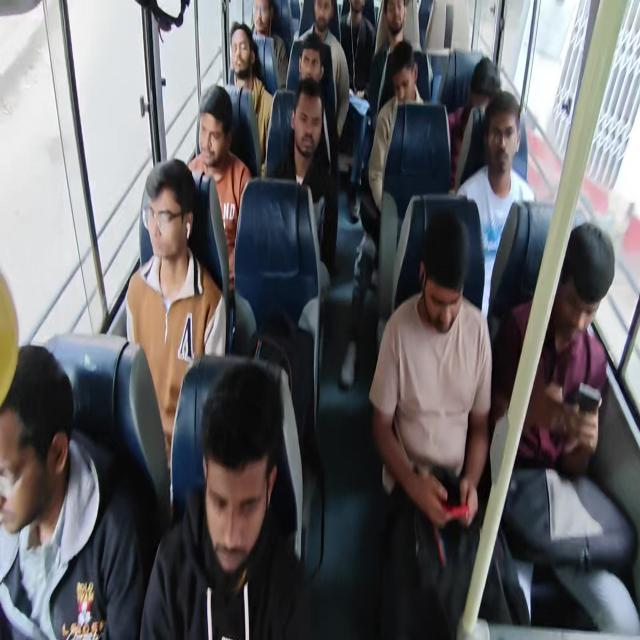person: (0, 353, 87, 640), (415, 220, 494, 428), (186, 378, 256, 604), (555, 234, 619, 403), (135, 151, 193, 273), (486, 92, 534, 228), (186, 89, 245, 188), (456, 50, 514, 150), (392, 52, 437, 167), (292, 78, 323, 210), (223, 19, 265, 100), (382, 0, 422, 77), (341, 0, 372, 80), (297, 30, 326, 97), (306, 4, 347, 46), (250, 1, 274, 50)
